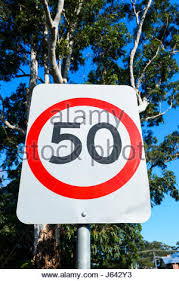Speed_limit_50km: (25, 97, 145, 198)
